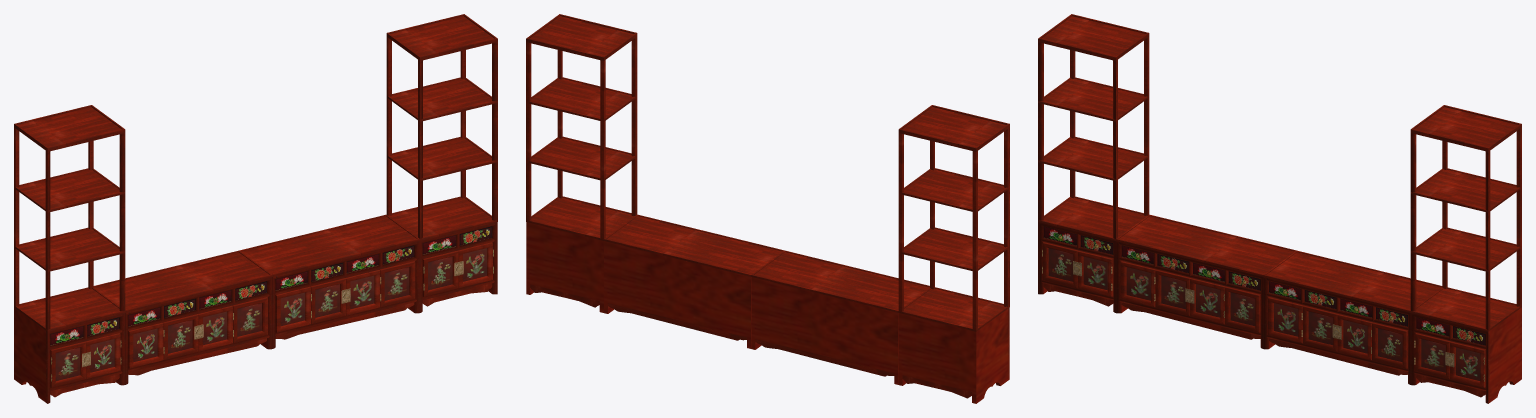
File: cabinet 2.FBX
The picture shows the model from 3 angles, left to right: view 1: azimuth 30°, elevation 25°; view 2: azimuth 150°, elevation 25°; view 3: azimuth 330°, elevation 25°; orthographic projection.
Visible parts, largest first — view 1: Group_342; view 2: Group_342; view 3: Group_342.
Boxes of the visible parts, <box> form: Group_342: <box>14,14,497,403</box>; Group_342: <box>526,14,1009,403</box>; Group_342: <box>1038,14,1521,403</box>.
Bounding box in the file's own units: 125 × 67.83 × 16.45.
